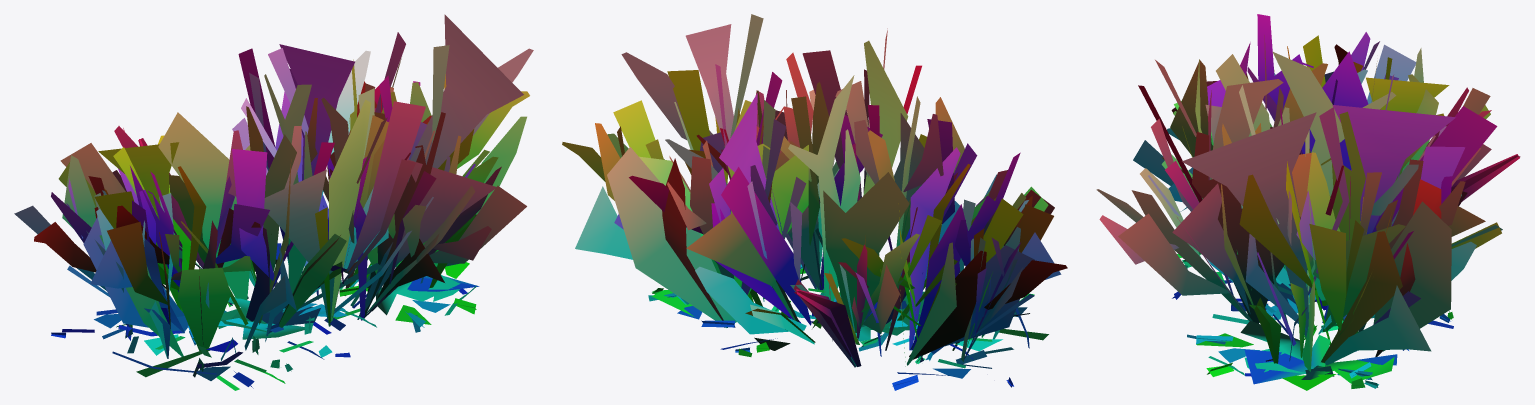
File: Toad_Rush_vdtmcbeia_Mid_vdtmcbeia_VarA_LOD2.fbx
The picture shows the model from 3 angles, left to right: view 1: azimuth 30°, elevation 25°; view 2: azimuth 150°, elevation 25°; view 3: azimuth 270°, elevation 25°; orthographic projection. The views are drawn at different scales.
Parts seen in each view (by area): view 1: _j610_VarA_LOD4; view 2: _j610_VarA_LOD4; view 3: _j610_VarA_LOD4.
Boxes of the visible parts, x1,y1,x2,y2 form: _j610_VarA_LOD4: (14,14,533,390); _j610_VarA_LOD4: (562,14,1067,390); _j610_VarA_LOD4: (1096,14,1520,390).
Size of the model in its own units: 109 by 55.08 by 74.15.
